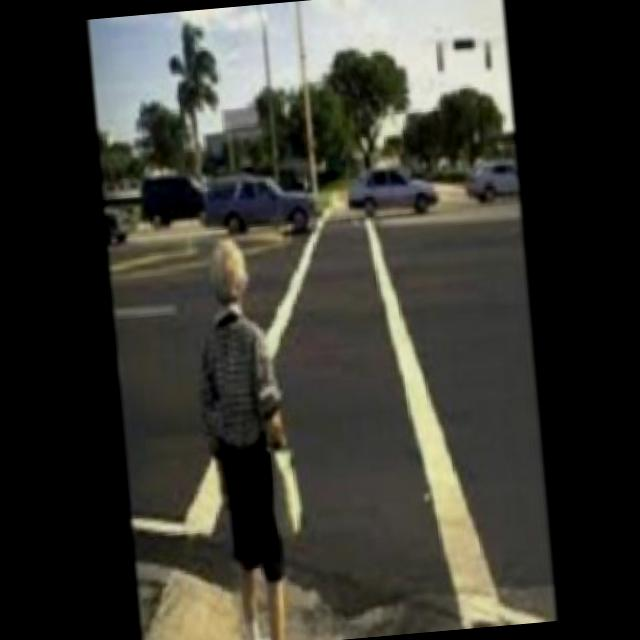Person: (186, 226, 317, 640)
